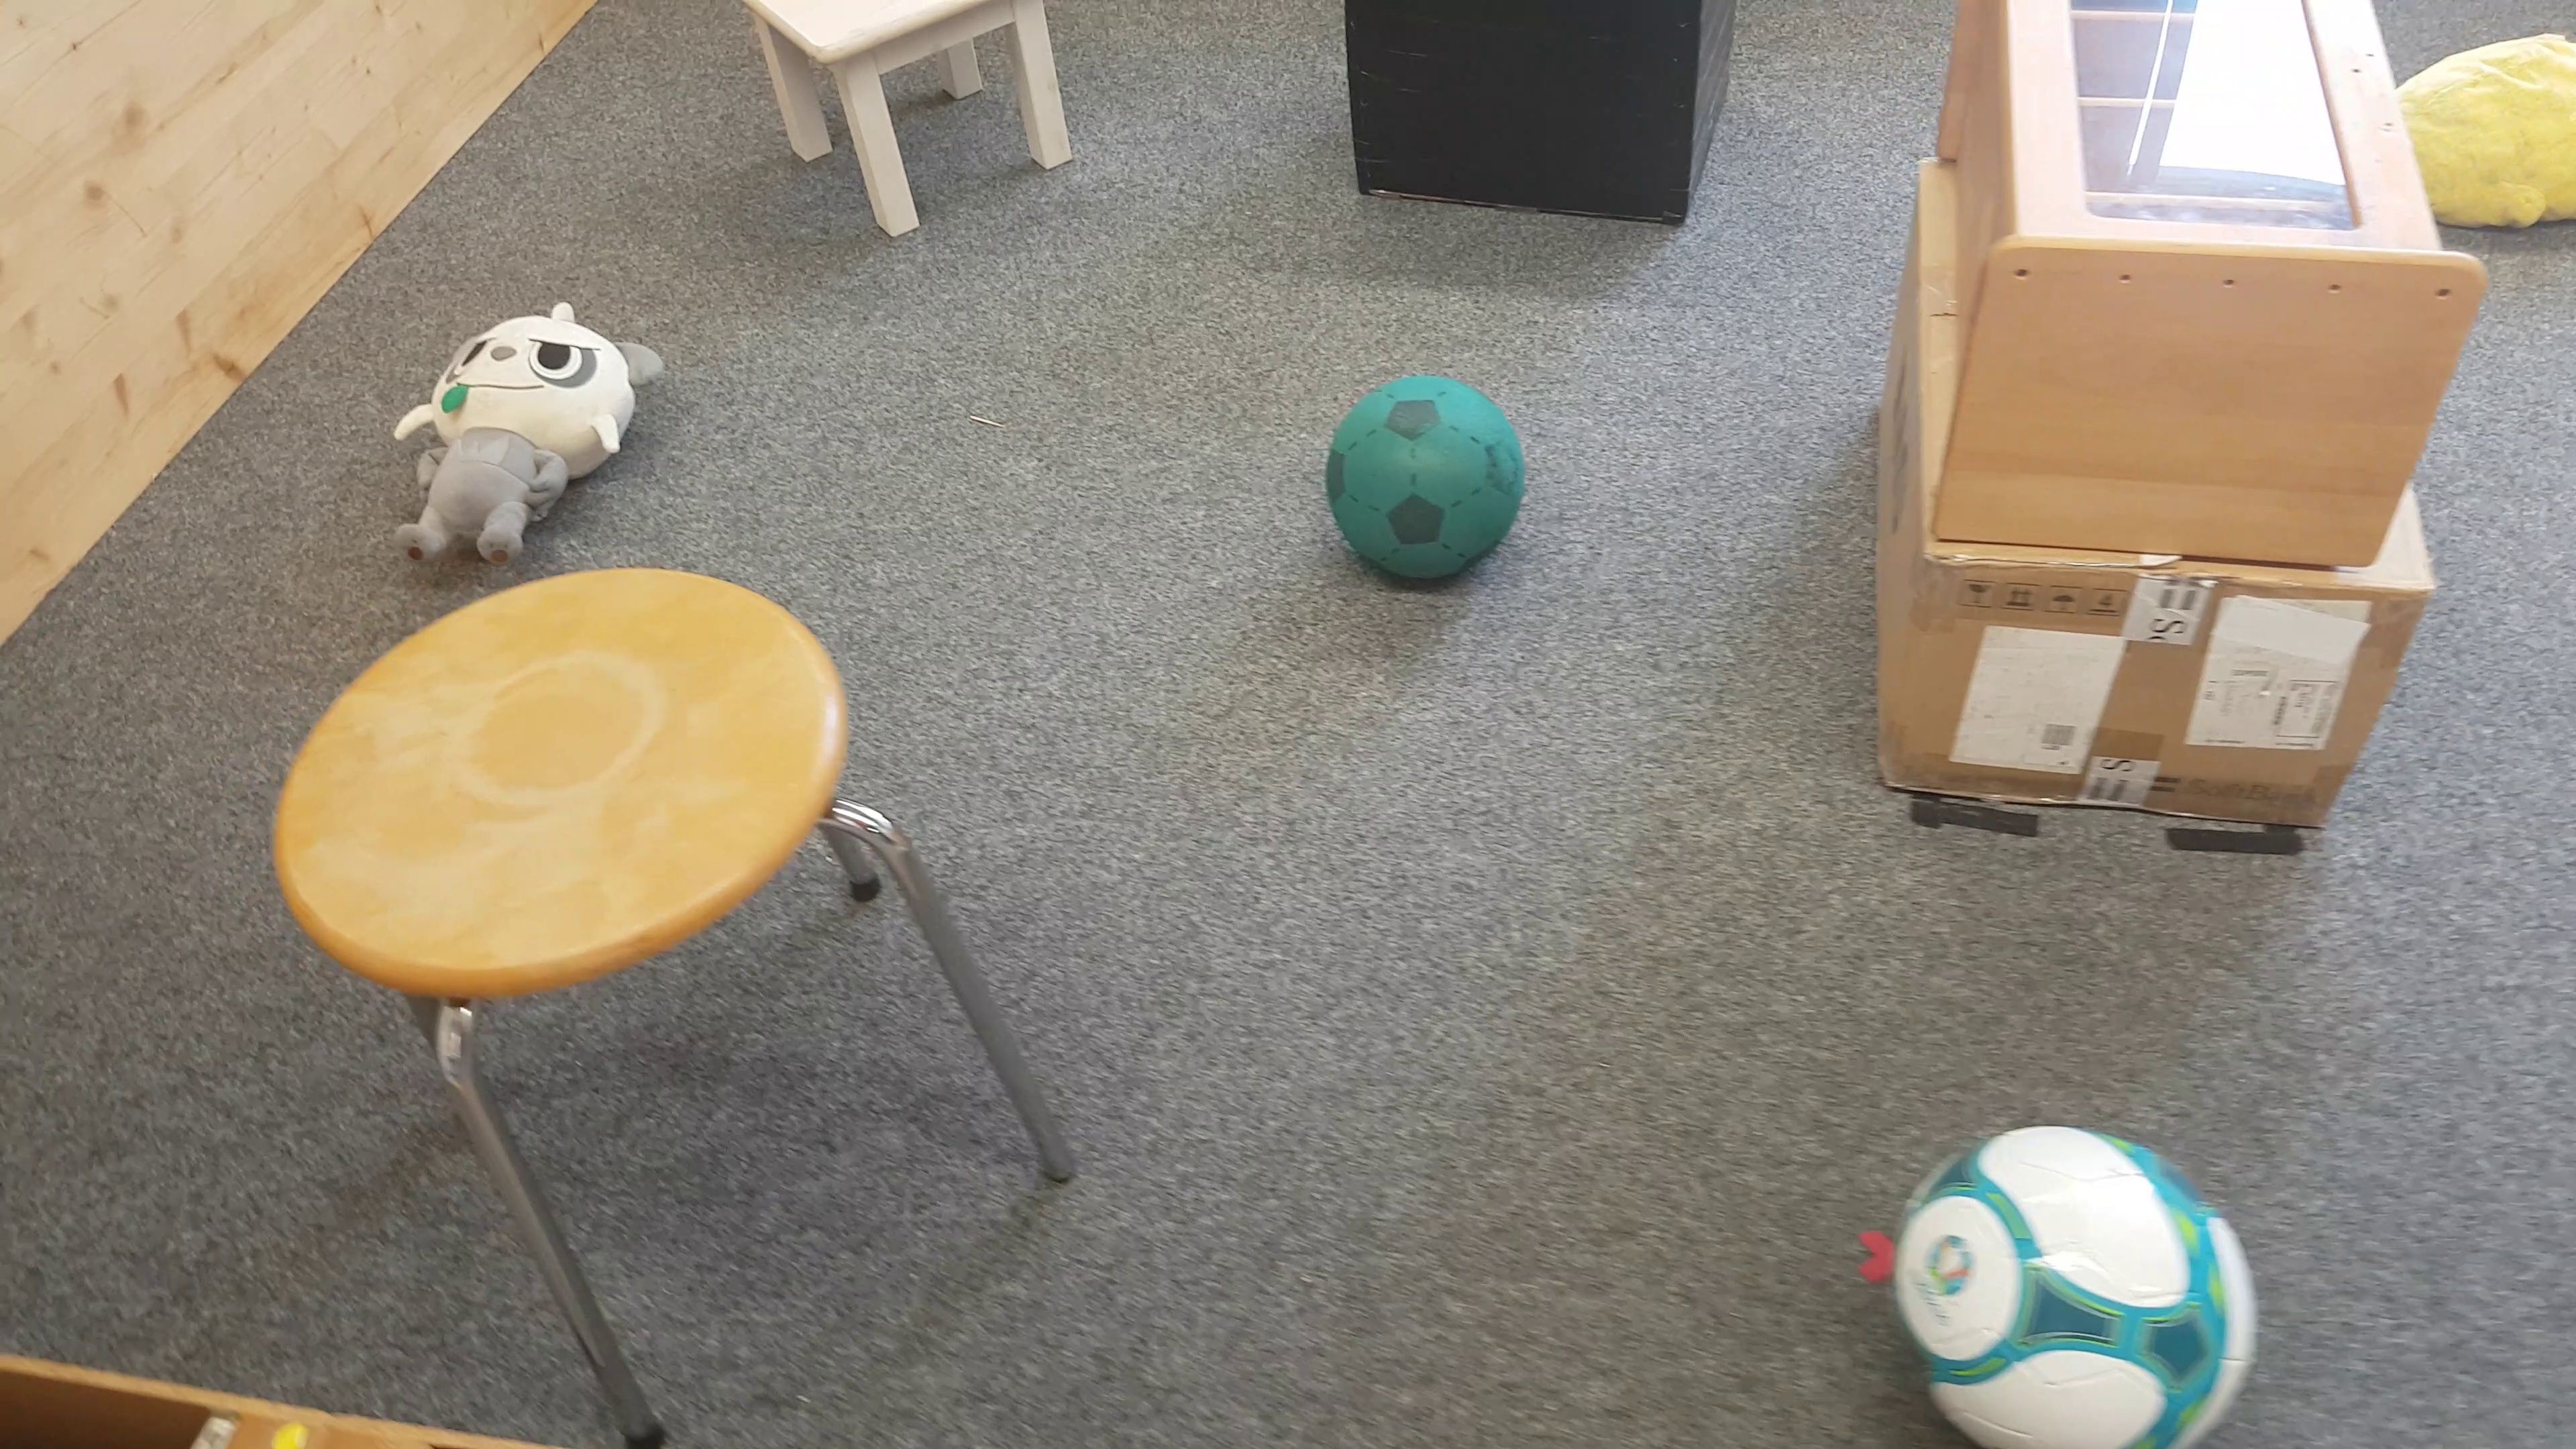grasp: (391, 297, 660, 557), (2415, 30, 2576, 225)
kick: (1888, 1125, 2261, 1449), (1325, 373, 1518, 593)
push: (1346, 0, 1736, 230)
